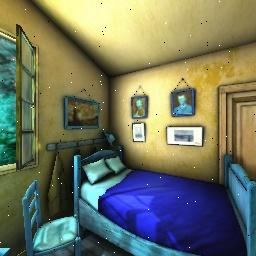bed: (77, 145, 251, 256)
chair: (18, 170, 87, 256)
